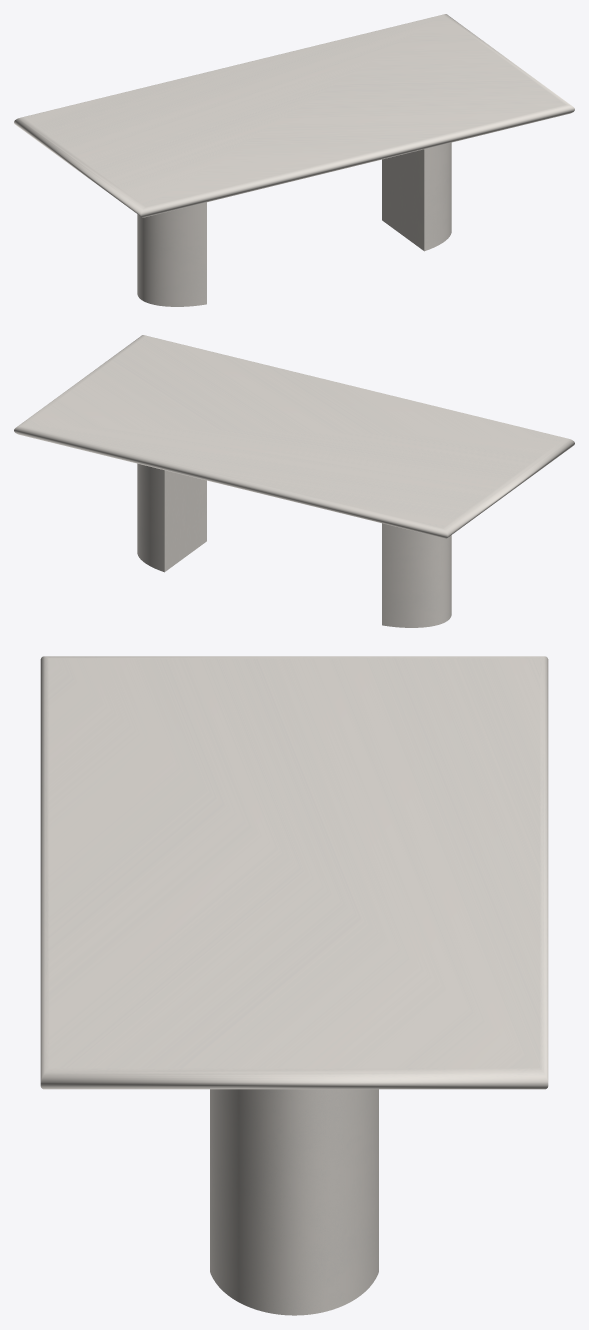
Rendered from pearlwhite_recta_round_hillside.glb.
3 views of the same model, one above another, from view 1: azimuth 30°, elevation 25°; view 2: azimuth 150°, elevation 25°; view 3: azimuth 270°, elevation 25° (orthographic). The views are drawn at different scales.
Visible parts, largest first — view 1: round_recta, hillside; view 2: round_recta, hillside; view 3: round_recta, hillside.
Part boxes in pixels (x1,y1,x2,y2): round_recta: (14,14,574,217); hillside: (137,142,451,306); round_recta: (14,335,574,538); hillside: (137,463,451,627); round_recta: (40,656,548,1089); hillside: (210,1089,378,1315).
Size of the model in its own units: 7.5 by 2.5 by 3.8.
1 material, 1 textured.
